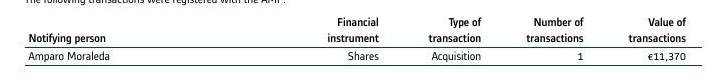table: (0, 0, 719, 84)
